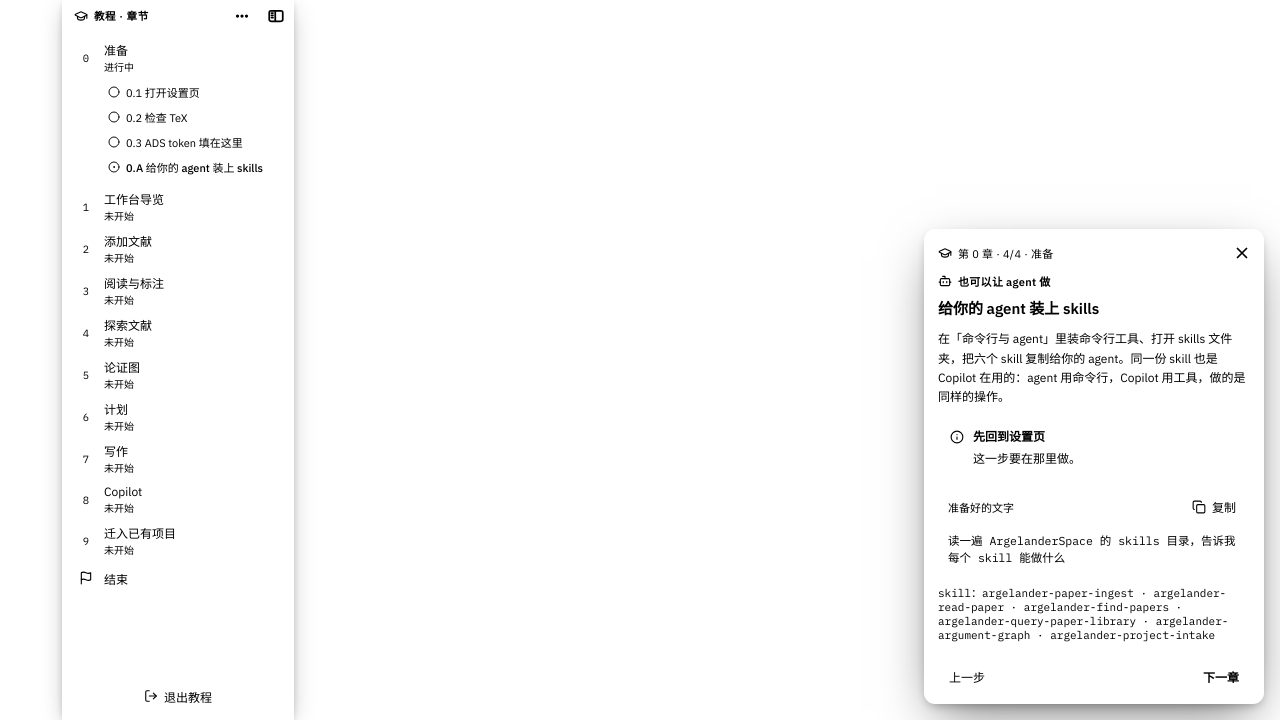
it: prepared text › copy reports success, and a refused clipboard as refused
Click the button "复制" at (1214, 506), box [1184,494,1244,518]
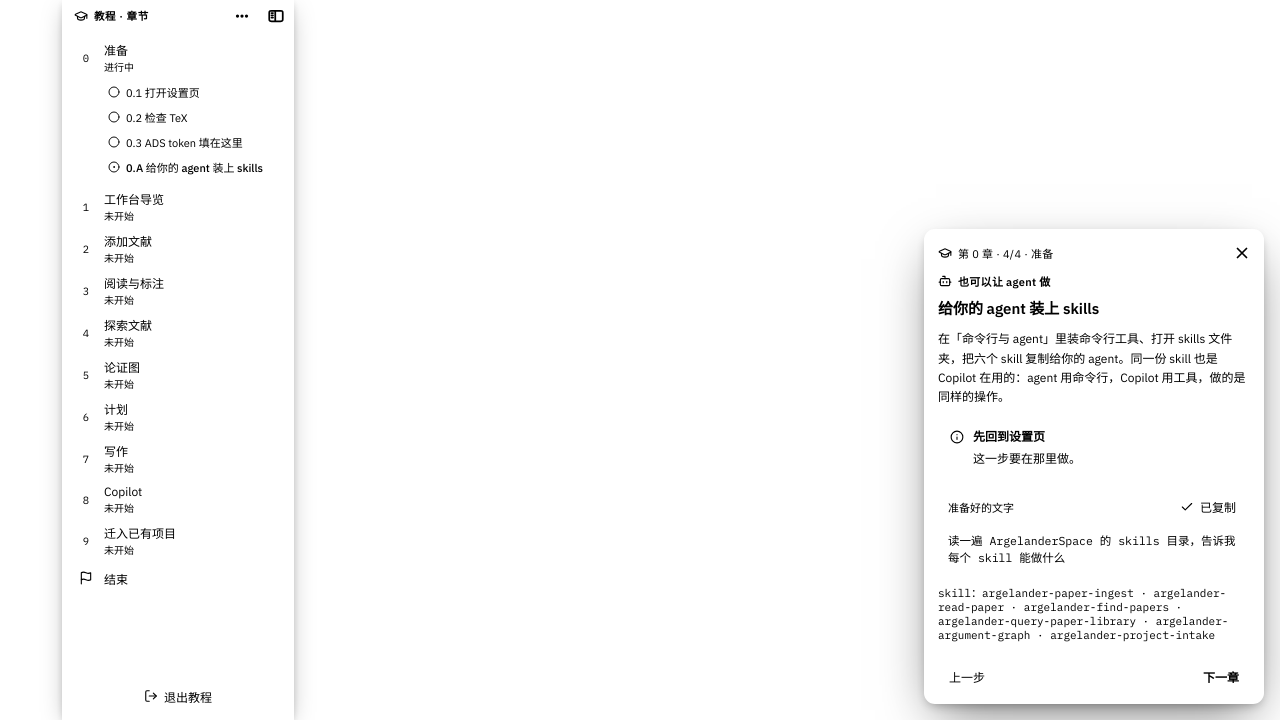
Check: the button "已复制" is shown
Click the button "已复制" at (1208, 506), box [1172,494,1244,518]
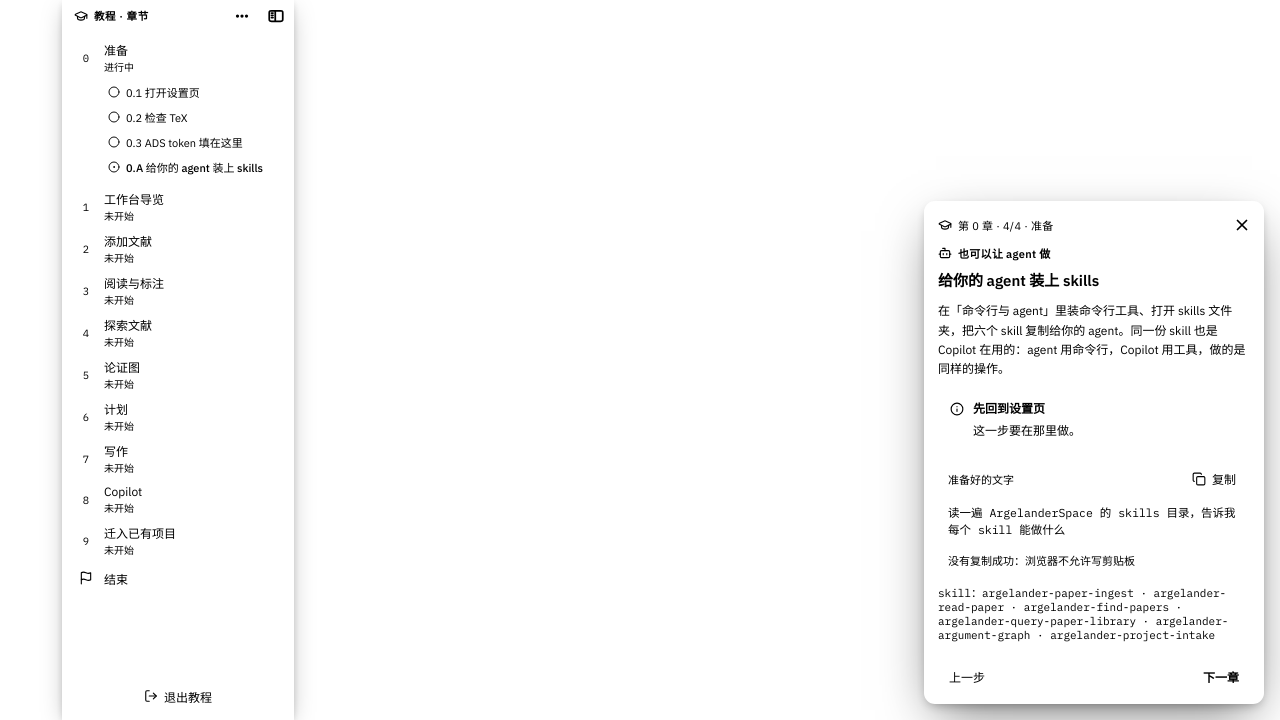
Check: the message "没有复制成功：浏览器不允许写剪贴板" is shown, box [948,554,1135,568]
Check: the button "复制" is shown, box [1184,466,1244,490]
